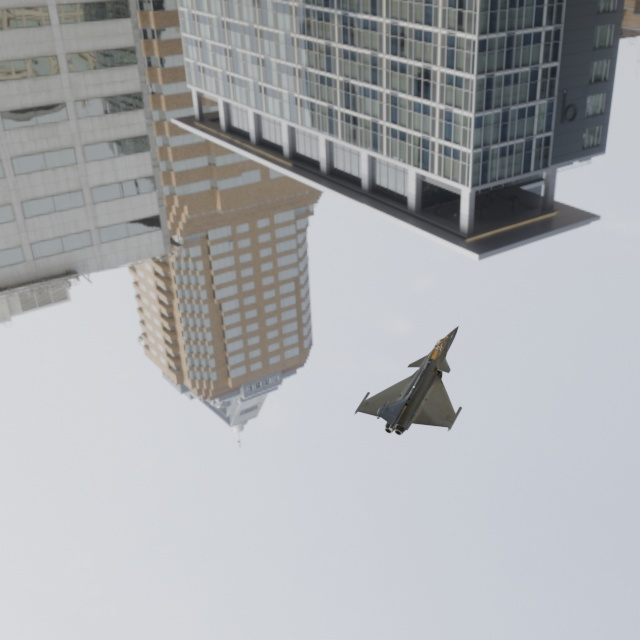dassault_rafale: (328, 294, 505, 456)
